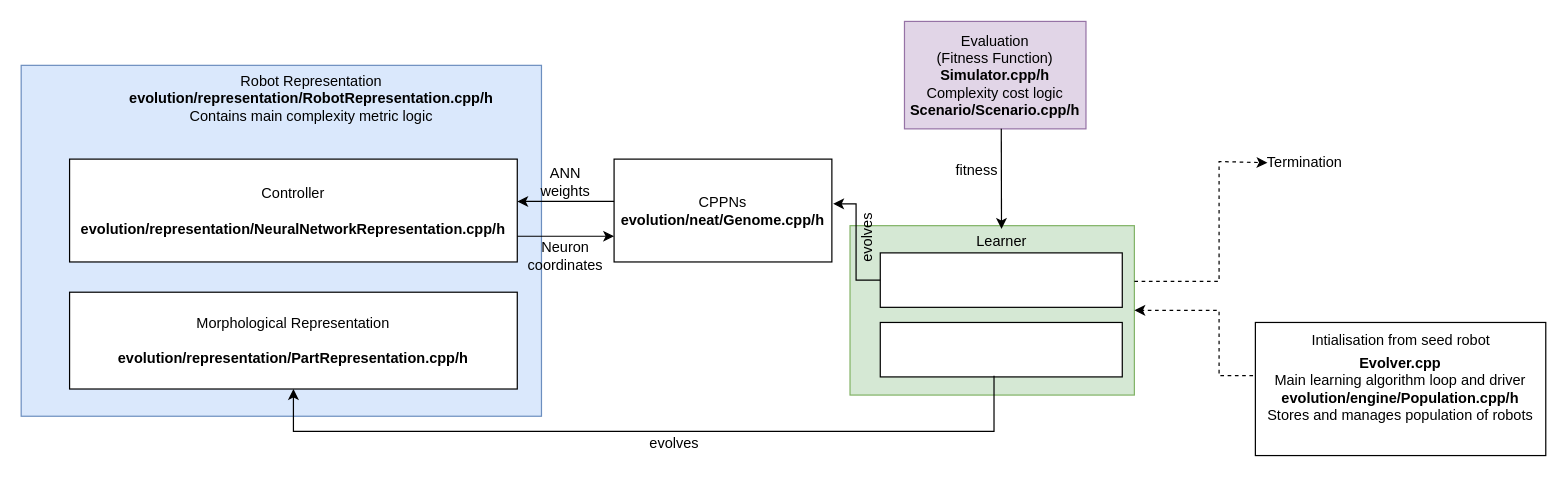
Image size: 1567x477. Some labels were removed from this diagram. The box of each missing label's shape, as (x1, y1, x2, y2) in pixels:
Body Mutation evolution/engine/Mutator.cpp/h: (879, 321, 1122, 377)
HyperNEAT evolution/engine/Mutator.cpp/h: (879, 252, 1122, 307)
